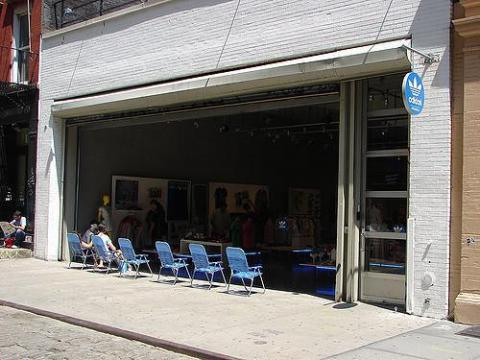addidas: (409, 76, 426, 98)
